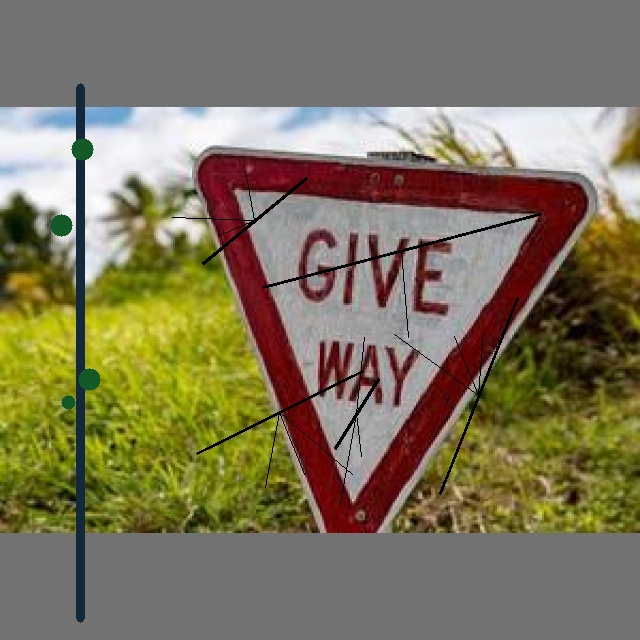Give_Way: (197, 154, 588, 515)
